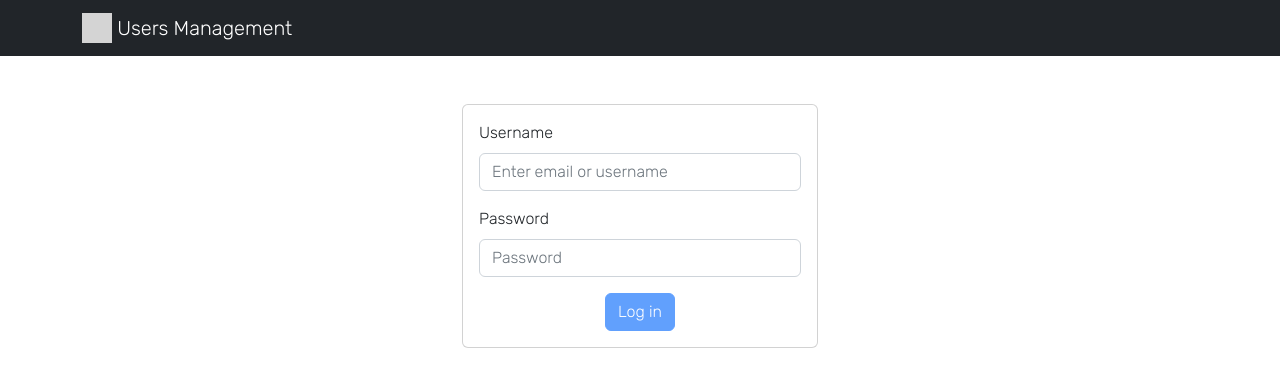
Test: onchange input username,password for undisiabled button
The width and height of the screenshot is (1280, 365).
Type "test1" into the field labelled "Username" at (640, 172), box [479,153,801,191]
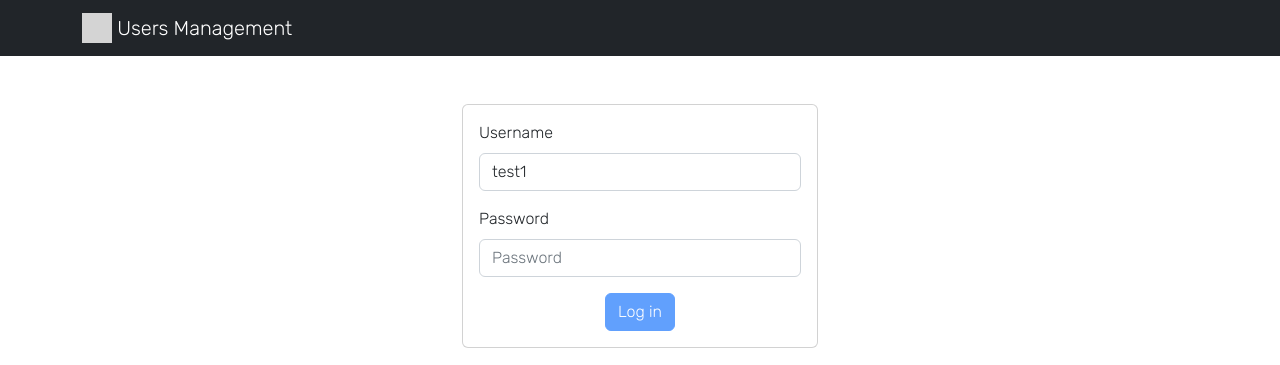
Type "123" into the password field labelled "Password" at (640, 258), box [479,239,801,277]
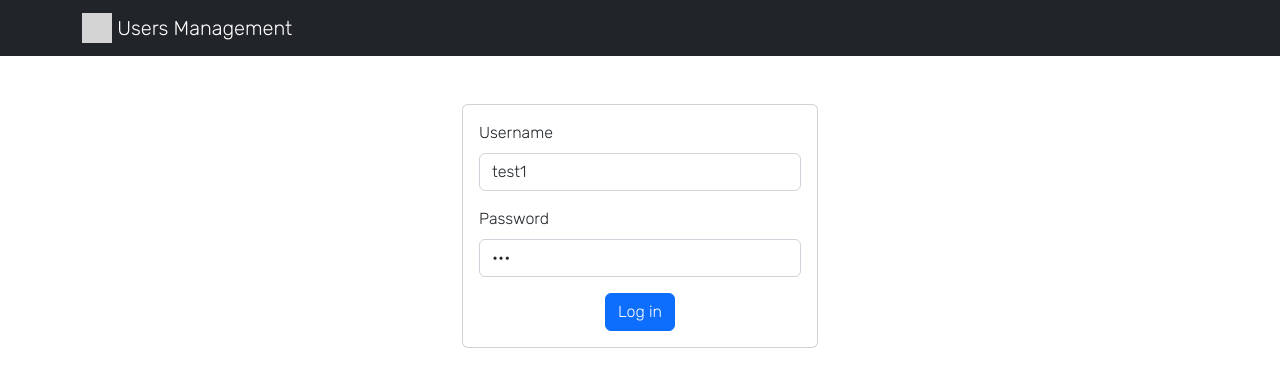
Result: the button "Log in" is enabled at [605,293,675,331]
